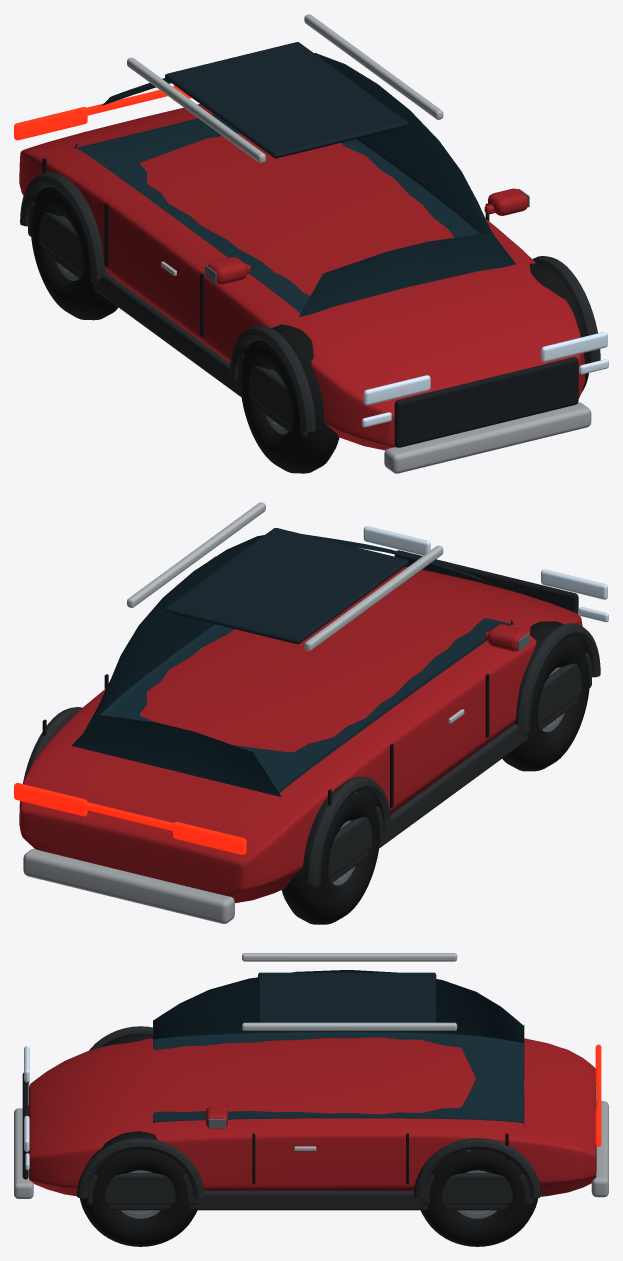
Rendered from traffic_crossover_modern.fbx.
The picture shows the model from 3 angles, top to bottom: view 1: azimuth 30°, elevation 25°; view 2: azimuth 150°, elevation 25°; view 3: azimuth 270°, elevation 25°; orthographic projection. The views are drawn at different scales.
Visible parts, largest first — view 1: Crossover_BodyShell, Crossover_Glasshouse, Crossover_PanoramicRoof, Crossover_Grille, Wheel_FL_Tire.001, Crossover_SkidPlateFront, Wheel_RL_Tire.001, Crossover_SideCladding_L, Crossover_ArchFront_-1, Crossover_ArchRear_-1, Crossover_WheelArchFront_-1, Crossover_WheelArchRear_-1 (+10 smaller); view 2: Crossover_BodyShell, Crossover_Glasshouse, Crossover_PanoramicRoof, Crossover_RearSkidPlate, Wheel_RL_Tire.001, Wheel_FL_Tire.001, Crossover_SideCladding_L, Crossover_ArchRear_-1, Crossover_ArchFront_-1, Crossover_Grille, Crossover_WheelArchRear_-1, Crossover_WheelArchFront_-1 (+9 smaller); view 3: Crossover_BodyShell, Crossover_Glasshouse, Crossover_PanoramicRoof, Wheel_FR_Tire.001, Wheel_RR_Tire.001, Crossover_SideCladding_R, Crossover_WheelArchRear_+1, Crossover_WheelArchFront_+1, Crossover_ArchFront_+1, Crossover_ArchRear_+1, Crossover_RoofRail_-1, Crossover_RoofRail_+1 (+4 smaller).
Boxes of the visible parts, x1,y1,x2,y2 form: Crossover_BodyShell: (19, 104, 585, 450); Crossover_Glasshouse: (74, 53, 515, 317); Crossover_PanoramicRoof: (165, 42, 408, 158); Crossover_Grille: (394, 357, 578, 447); Wheel_FL_Tire.001: (240, 324, 339, 473); Crossover_SkidPlateFront: (384, 402, 591, 473); Wheel_RL_Tire.001: (31, 186, 118, 320); Crossover_SideCladding_L: (43, 246, 291, 432); Crossover_ArchFront_-1: (229, 325, 315, 432); Crossover_ArchRear_-1: (20, 172, 106, 278); Crossover_WheelArchFront_-1: (235, 355, 307, 436); Crossover_WheelArchRear_-1: (28, 201, 97, 284); Crossover_BodyShell: (19, 566, 582, 903); Crossover_Glasshouse: (71, 534, 513, 796); Crossover_PanoramicRoof: (165, 528, 408, 644); Crossover_RearSkidPlate: (23, 849, 234, 923); Wheel_RL_Tire.001: (281, 787, 379, 924); Wheel_FL_Tire.001: (502, 621, 589, 771); Crossover_SideCladding_L: (329, 697, 577, 883); Crossover_ArchRear_-1: (304, 776, 391, 883); Crossover_ArchFront_-1: (514, 623, 600, 729); Crossover_Grille: (394, 550, 578, 614); Crossover_WheelArchRear_-1: (311, 806, 384, 888); Crossover_WheelArchFront_-1: (522, 653, 591, 736); Crossover_BodyShell: (28, 1037, 596, 1196); Crossover_Glasshouse: (153, 970, 524, 1125); Crossover_PanoramicRoof: (258, 972, 436, 1022); Wheel_FR_Tire.001: (80, 1131, 197, 1246); Wheel_RR_Tire.001: (420, 1149, 537, 1246); Crossover_SideCladding_R: (109, 1191, 508, 1210); Crossover_WheelArchRear_+1: (420, 1173, 532, 1204); Crossover_WheelArchFront_+1: (86, 1173, 198, 1204); Crossover_ArchFront_+1: (77, 1138, 204, 1198); Crossover_ArchRear_+1: (414, 1138, 541, 1198); Crossover_RoofRail_-1: (242, 953, 457, 961); Crossover_RoofRail_+1: (242, 1022, 457, 1030).
Size of the model in its own units: 2.38 by 1.86 by 4.84.
